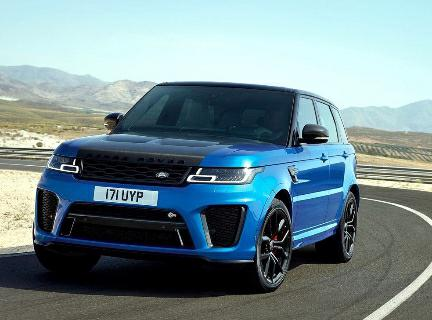路虎-揽胜运动版: (28, 78, 367, 297)
